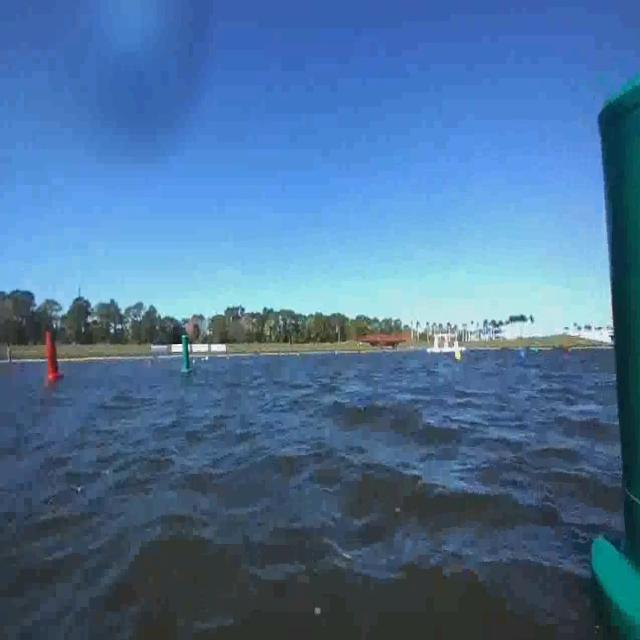green-column-buoy: (583, 69, 640, 640), (181, 326, 191, 374)
red-column-buoy: (46, 318, 64, 398)
